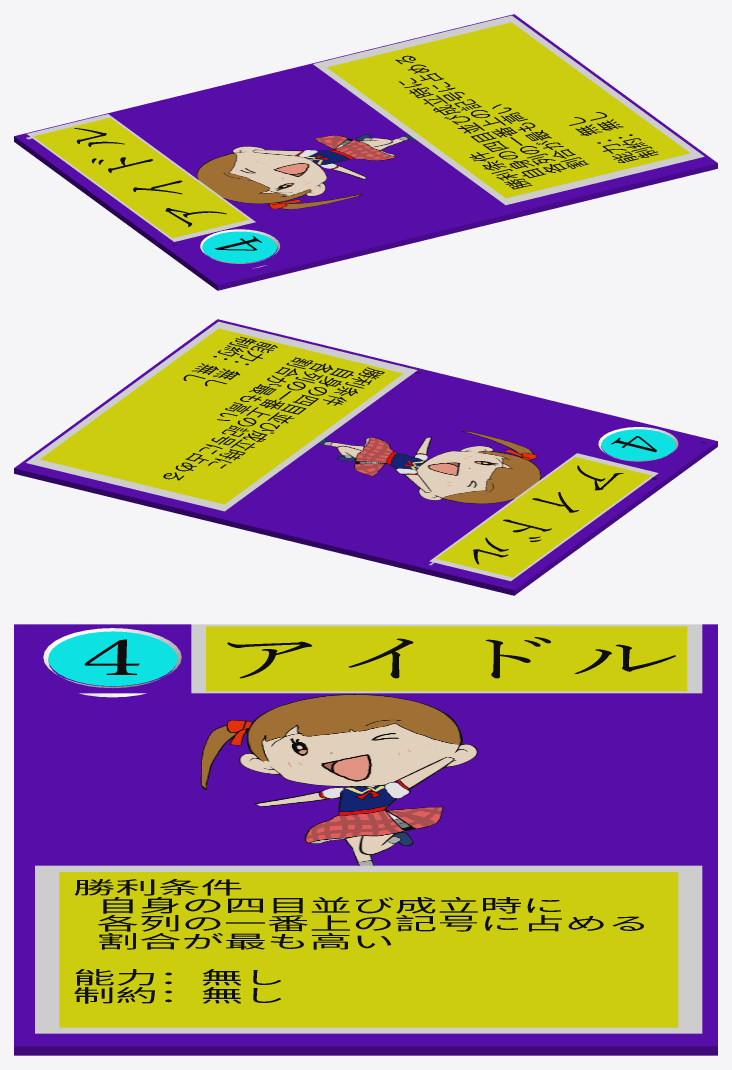
The model's file is アイドル紫.fbx.
3 views of the same model, one above another, from view 1: azimuth 30°, elevation 25°; view 2: azimuth 150°, elevation 25°; view 3: azimuth 270°, elevation 25° (orthographic). The views are drawn at different scales.
Parts seen in each view (by area): view 1: カード本体.001, 説明欄, 名前欄, 平面.001, 説明文, 円, 平面, 名前; view 2: カード本体.001, 説明欄, 名前欄, 平面.001, 説明文, 円, 平面, 名前; view 3: カード本体.001, 説明欄, 名前欄, 平面.001, 説明文, 平面, 円, 名前, コスト蘭.
Part boxes in pixels (<box>): カード本体.001: <box>14,14,717,290</box>; 説明欄: <box>313,15,704,205</box>; 名前欄: <box>27,114,255,241</box>; 平面.001: <box>196,134,415,209</box>; 説明文: <box>395,55,658,189</box>; 円: <box>202,231,276,262</box>; 平面: <box>174,222,302,275</box>; 名前: <box>74,128,226,226</box>; カード本体.001: <box>14,319,717,595</box>; 説明欄: <box>26,321,417,511</box>; 名前欄: <box>429,453,658,581</box>; 平面.001: <box>318,431,541,503</box>; 説明文: <box>163,337,384,480</box>; 円: <box>601,429,675,460</box>; 平面: <box>577,419,704,472</box>; 名前: <box>473,465,623,564</box>; カード本体.001: <box>14,624,717,1055</box>; 説明欄: <box>35,865,702,1033</box>; 名前欄: <box>191,624,702,693</box>; 平面.001: <box>200,694,477,865</box>; 説明文: <box>74,879,643,1003</box>; 平面: <box>30,624,191,693</box>; 円: <box>48,631,177,686</box>; 名前: <box>227,637,675,678</box>; コスト蘭: <box>43,628,181,697</box>.
Bounding box in the file's own units: 281 × 6.07 × 198.
